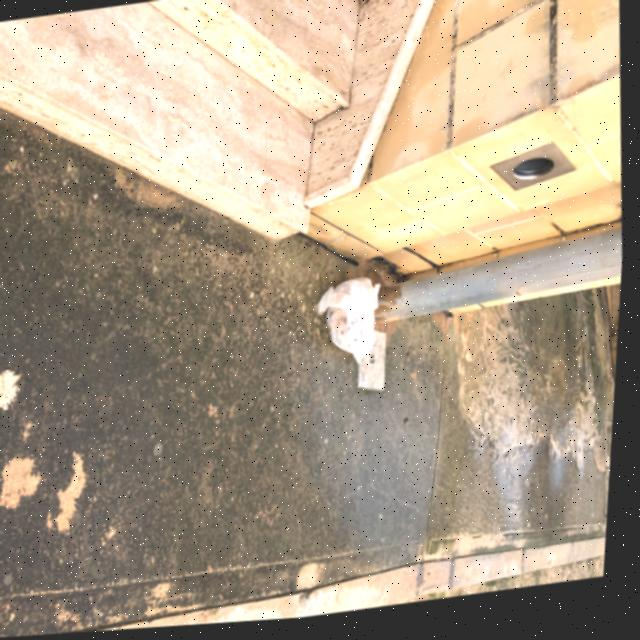Organic Waste -White Bag-: (308, 272, 392, 381)
